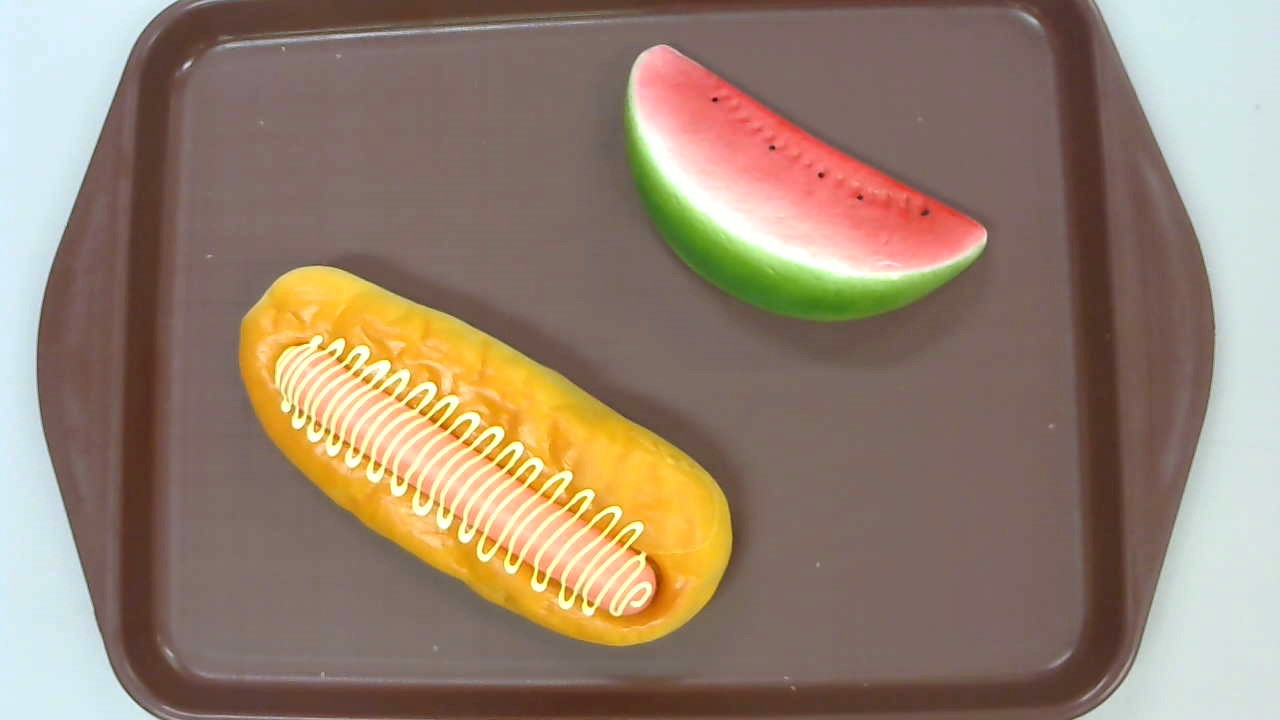hot dog: (236, 266, 733, 646)
water melon: (623, 42, 987, 324)
